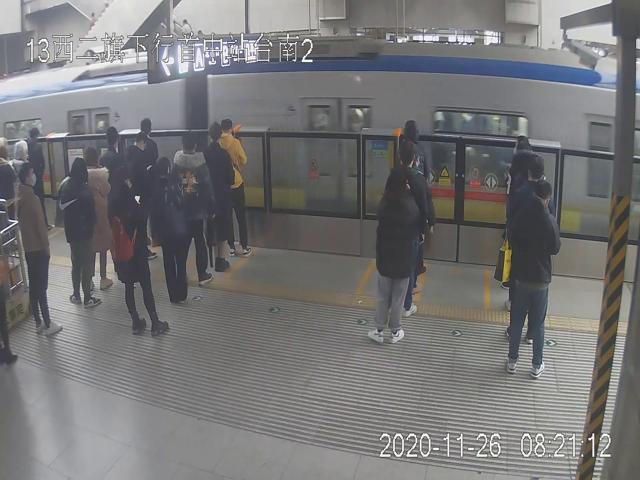person: (504, 181, 562, 378), (109, 168, 172, 336), (369, 166, 421, 347), (16, 164, 64, 334), (60, 155, 102, 308), (173, 132, 214, 284), (217, 120, 252, 260), (204, 123, 236, 273), (83, 143, 114, 292)
